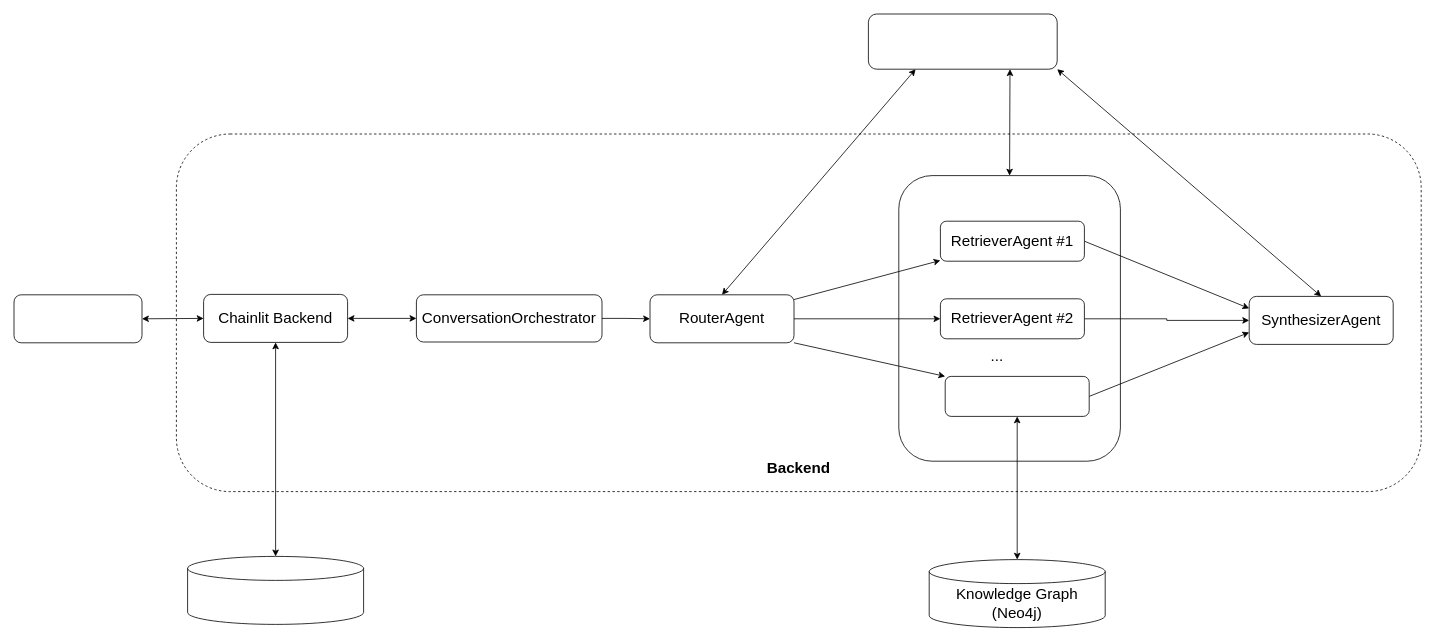
This 1435x642 diagram has some shape labels left out. Each missing label, with the box of its shape:
API LLM: (868, 13, 1057, 69)
Frontend: (13, 294, 142, 343)
RetrieverAgent #20: (944, 376, 1089, 416)
Session Storage (PostgreSQL): (187, 556, 364, 624)
